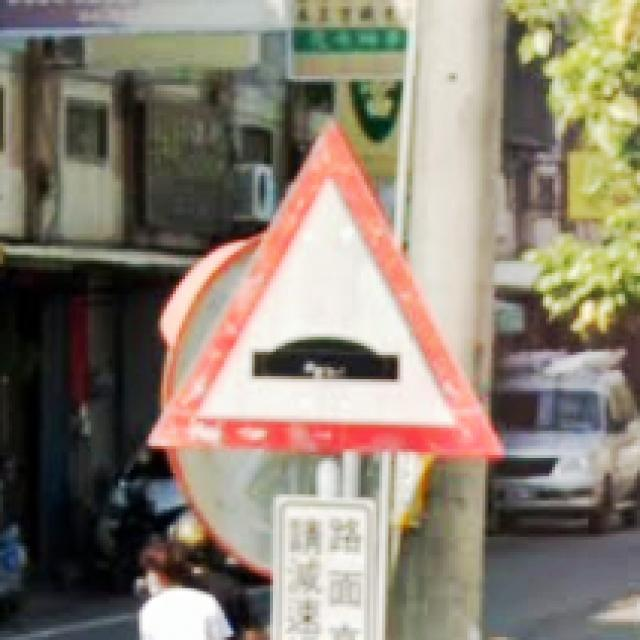hump: (147, 121, 505, 456)
